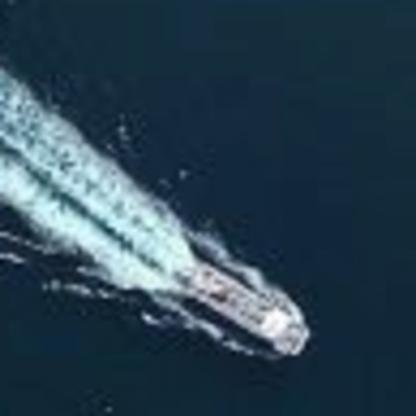ship: (160, 231, 313, 365)
